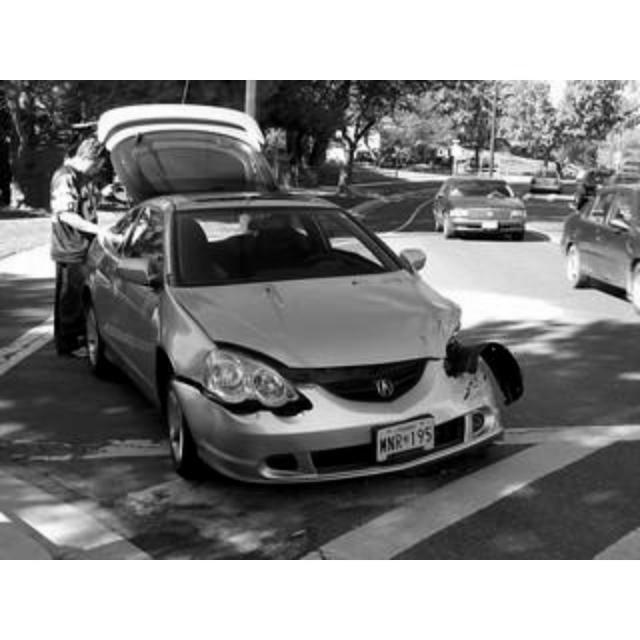Front-windscreen-damage: (198, 344, 316, 428)
bonnet-dent: (174, 276, 472, 368)
front-bumper-dent: (374, 344, 500, 462)
